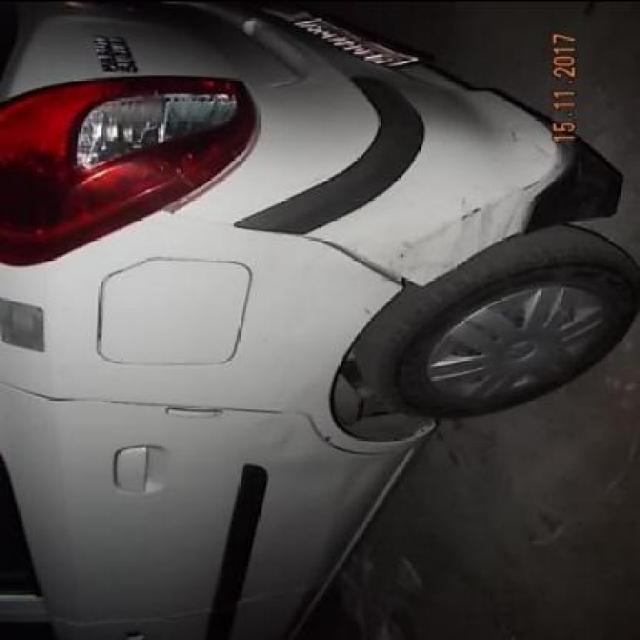damage: (386, 140, 575, 275), (265, 372, 391, 506), (298, 230, 428, 291)
